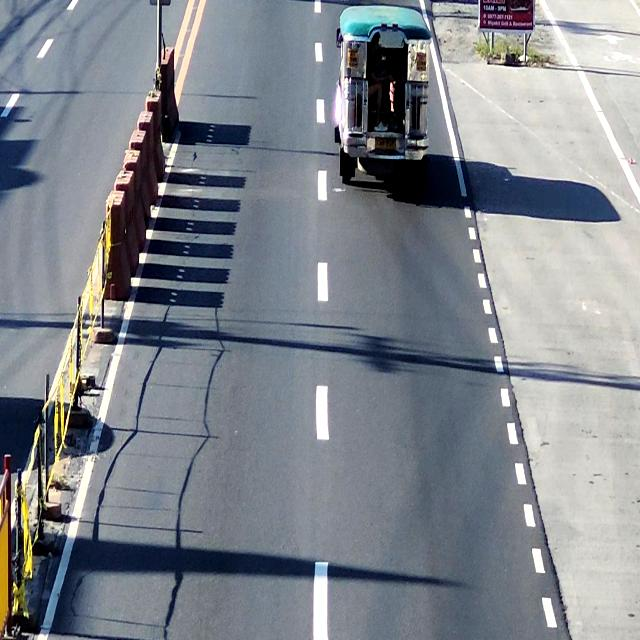Jeep: (332, 5, 432, 188)
License-Plate: (372, 134, 400, 155)
